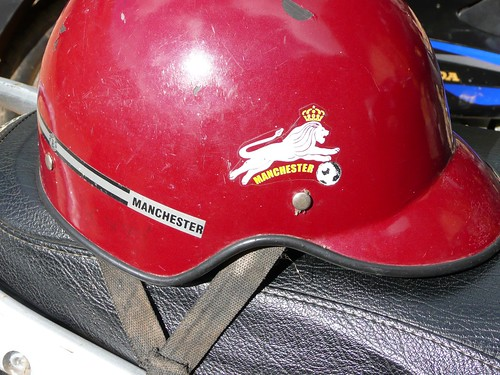helmet: (29, 0, 497, 294)
